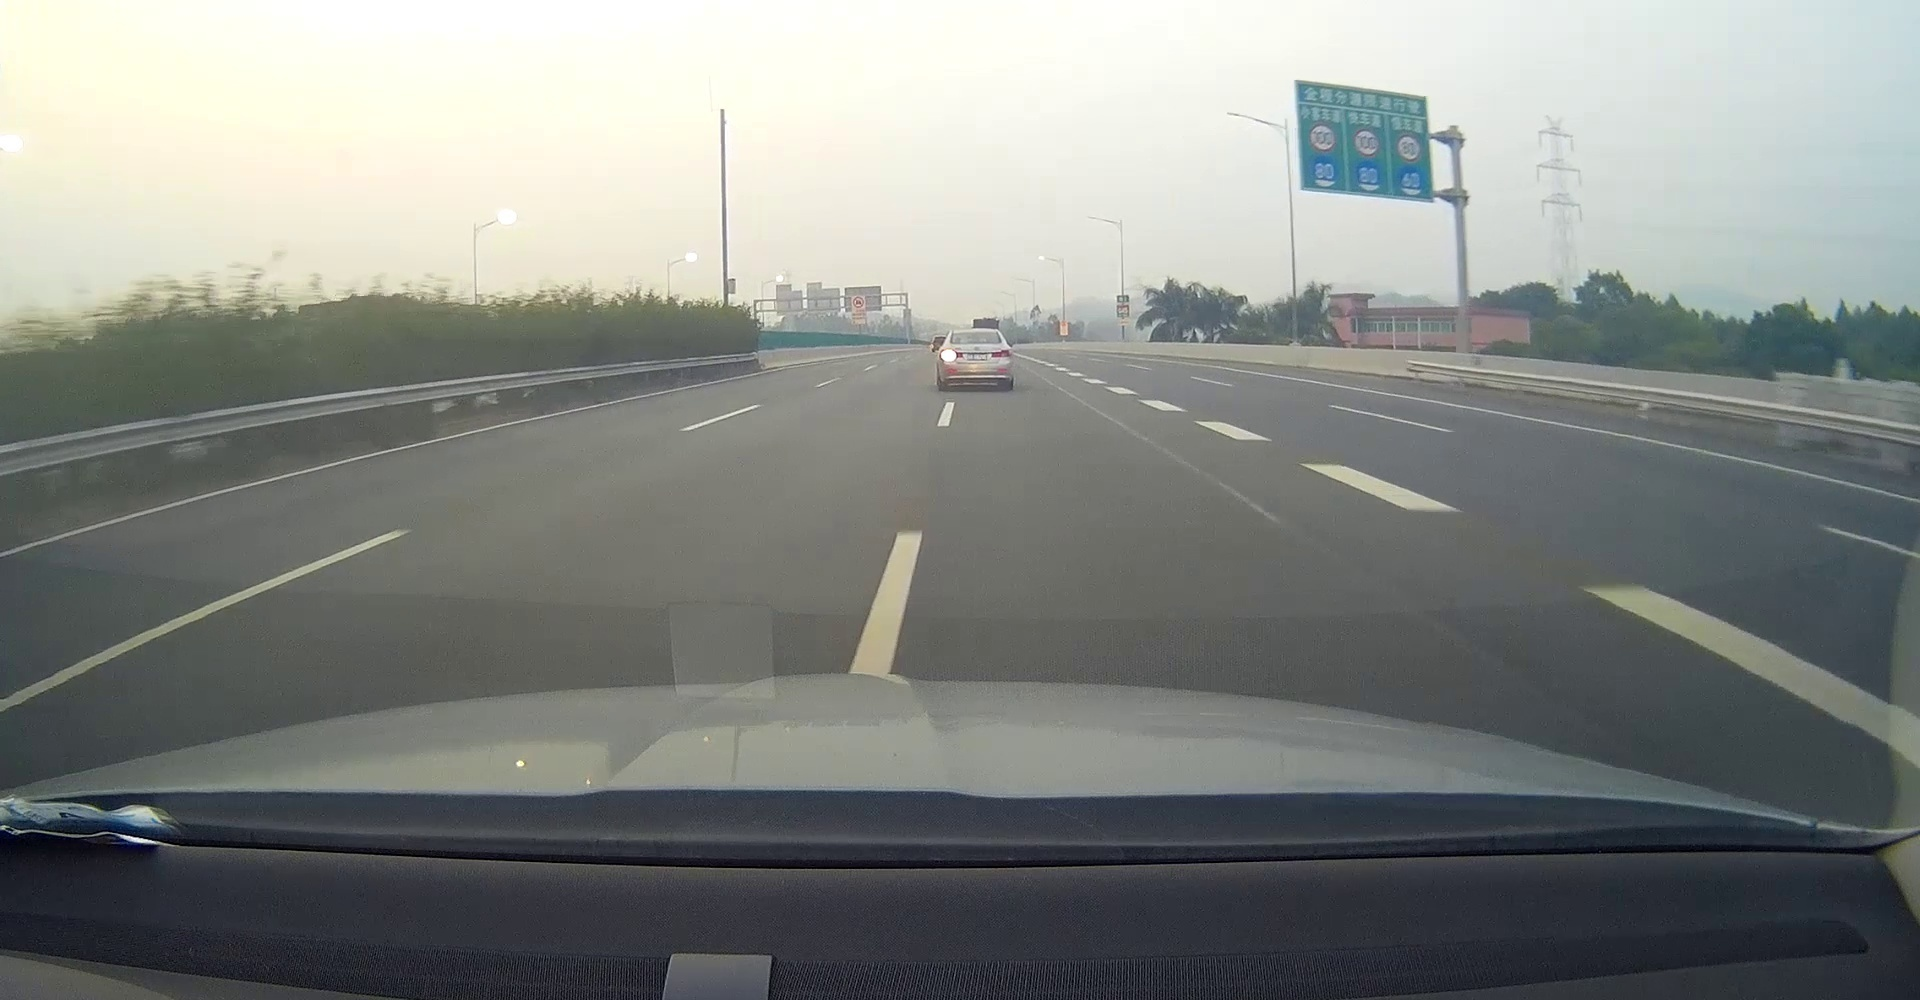L_light: (940, 350, 963, 358)
R_light: (992, 350, 1012, 357)
T_light: (971, 332, 982, 335)
day-left: (938, 330, 1013, 391)
